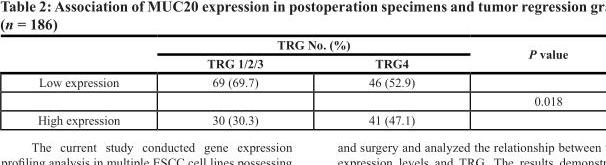table: (36, 37, 567, 126)
table column: (315, 37, 471, 126), (162, 37, 315, 126), (36, 37, 162, 126), (471, 37, 567, 126)
table column header: (36, 37, 567, 72)
table row: (36, 53, 567, 72), (36, 72, 567, 91), (36, 91, 567, 110), (36, 37, 567, 53), (36, 110, 567, 126)
table spanning cell: (162, 37, 471, 53), (36, 72, 162, 110), (471, 37, 567, 72)
